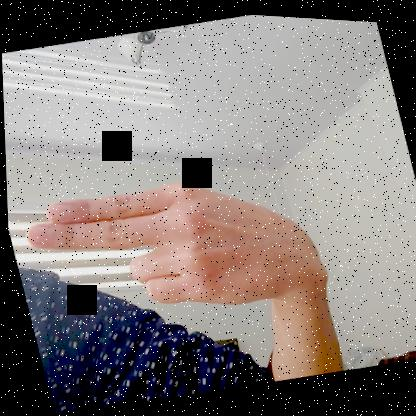H: (14, 143, 330, 346)
